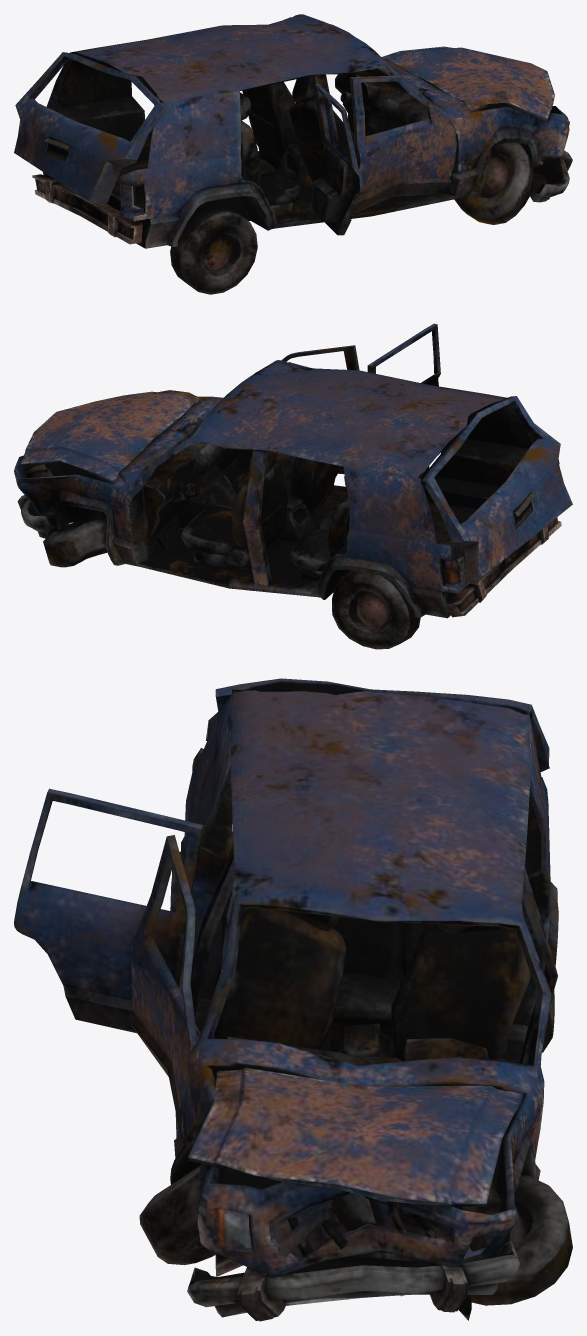
File: wreck_suv.glb
The picture shows the model from 3 angles, top to bottom: view 1: azimuth 30°, elevation 25°; view 2: azimuth 150°, elevation 25°; view 3: azimuth 270°, elevation 25°; orthographic projection. The views are drawn at different scales.
Visible parts, largest first — view 1: body, wheel_rr, wheel_fr; view 2: body, wheel_rl, wheel_fl; view 3: body, wheel_fl, wheel_fr.
Boxes of the visible parts, x1=… form: body: x1=14, y1=14, x2=572, y2=248; wheel_rr: x1=170, y1=204, x2=257, y2=294; wheel_fr: x1=454, y1=142, x2=534, y2=224; body: x1=14, y1=323, x2=572, y2=618; wheel_rl: x1=332, y1=570, x2=420, y2=649; wheel_fl: x1=43, y1=512, x2=107, y2=567; body: x1=14, y1=678, x2=558, y2=1321; wheel_fl: x1=471, y1=1175, x2=572, y2=1305; wheel_fr: x1=139, y1=1165, x2=215, y2=1265.
Bounding box in the file's own units: 4.6 × 1.79 × 2.74.
1 material, 1 textured.
